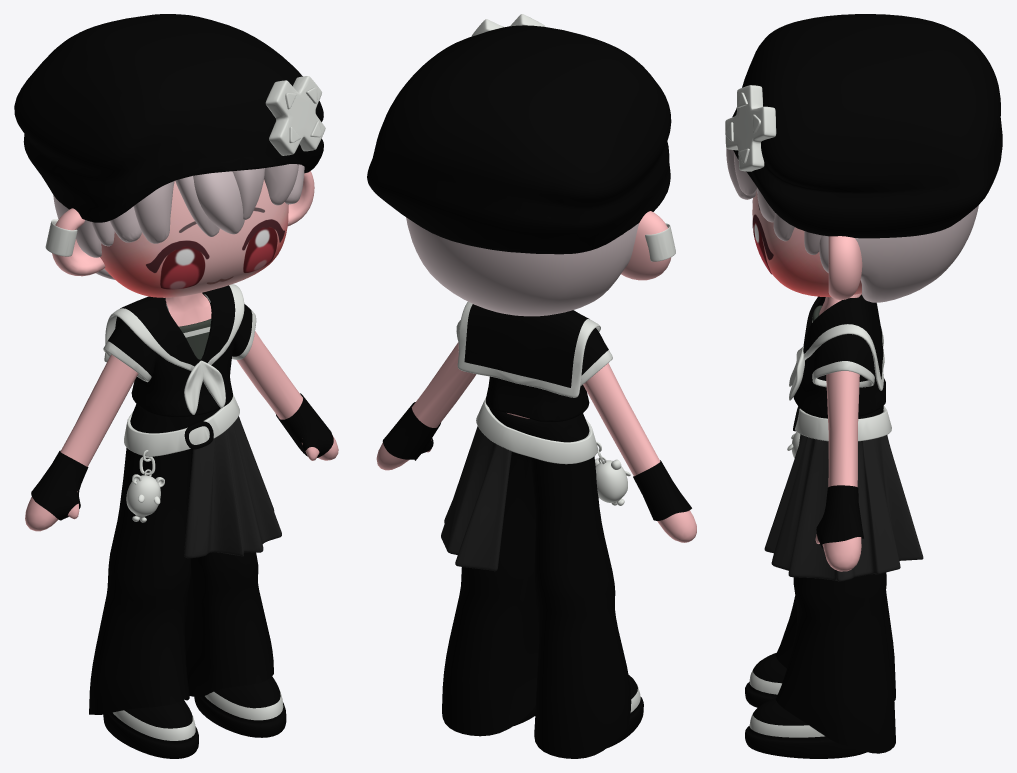
Rendered from bzhead.glb.
3 renders of one model, left to right at view 1: azimuth 30°, elevation 25°; view 2: azimuth 150°, elevation 25°; view 3: azimuth 270°, elevation 25°, orthographic. The views are drawn at different scales.
Parts seen in each view (by area): view 1: Nurbs路徑.026, 水手領子, Cube, 頭.008, 上衣.002, face.003; view 2: Nurbs路徑.026, 水手領子, Cube, 上衣.002; view 3: Nurbs路徑.026, 水手領子, Cube, 上衣.002, 頭.008, face.003.
Part boxes in pixels (x1,y1,x2,y2): Nurbs路徑.026: [14, 14, 338, 758]; 水手領子: [89, 285, 281, 714]; Cube: [45, 76, 325, 740]; 頭.008: [100, 179, 288, 297]; 上衣.002: [108, 292, 252, 416]; face.003: [146, 207, 284, 289]; Nurbs路徑.026: [367, 25, 696, 748]; 水手領子: [441, 304, 631, 758]; Cube: [456, 14, 675, 712]; 上衣.002: [485, 328, 608, 421]; Nurbs路徑.026: [726, 14, 1002, 758]; 水手領子: [764, 294, 923, 753]; Cube: [725, 85, 891, 737]; 上衣.002: [793, 297, 885, 417]; 頭.008: [752, 191, 861, 297]; face.003: [752, 194, 773, 274].
Size of the model in its own units: 5.13 by 10.66 by 3.91.
Materials: 7 (7 with a texture image).
